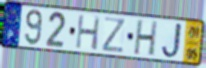2: (45, 11, 68, 49)
9: (24, 8, 44, 47)
H: (132, 19, 159, 59), (75, 14, 102, 52)
J: (160, 21, 183, 59)
Z: (100, 16, 127, 55)
